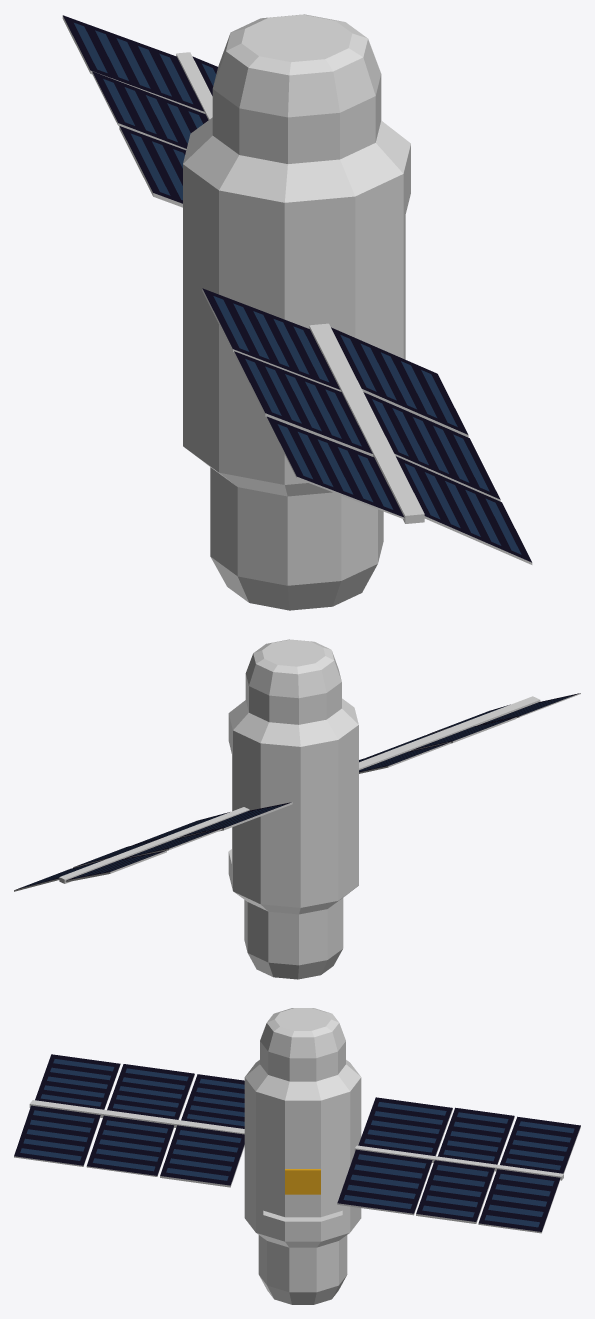
File: satellite 1.fbx
The picture shows the model from 3 angles, top to bottom: view 1: azimuth 30°, elevation 25°; view 2: azimuth 150°, elevation 25°; view 3: azimuth 270°, elevation 25°; orthographic projection. The views are drawn at different scales.
Parts seen in each view (by area): view 1: Cylinder.001; view 2: Cylinder.001; view 3: Cylinder.001.
Part boxes in pixels (x1,y1,x2,y2): Cylinder.001: (62, 14, 532, 610); Cylinder.001: (14, 639, 580, 979); Cylinder.001: (14, 1008, 580, 1304).
Size of the model in its own units: 753 by 774 by 1468.
